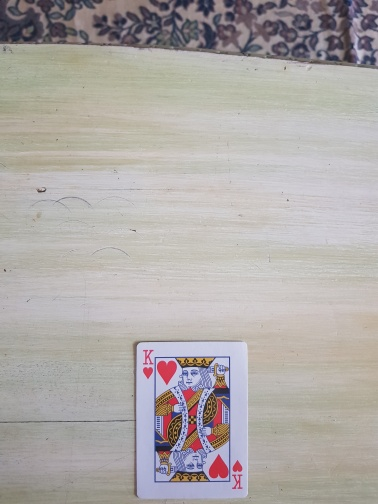king: (135, 340, 249, 499)
